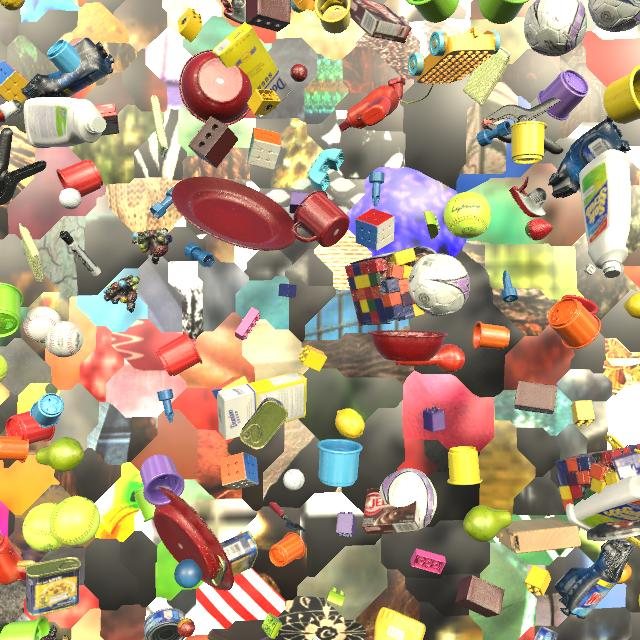ycb_002_master_chef_can: (617, 0, 640, 7)
ycb_004_sugar_box: (212, 22, 291, 118), (217, 371, 307, 441)
ycb_006_mustard_bottle: (374, 607, 426, 640)
ycb_007_tuna_fish_can: (143, 608, 186, 640), (534, 625, 558, 640)
ycb_008_pudding_box: (362, 488, 420, 535), (350, 0, 412, 43)
ycb_009_gelatin_box: (94, 103, 119, 136)
ycb_010_potted_meat_can: (24, 557, 81, 616), (211, 531, 258, 586), (240, 397, 288, 449), (0, 531, 2, 536)
ycb_012_strawberry: (525, 219, 553, 241)
ycb_014_lemon: (335, 408, 365, 439), (623, 293, 640, 319), (0, 0, 26, 11)
ycb_015_peach: (617, 563, 632, 584)
ycb_016_pear: (463, 505, 512, 542), (36, 437, 84, 472)
